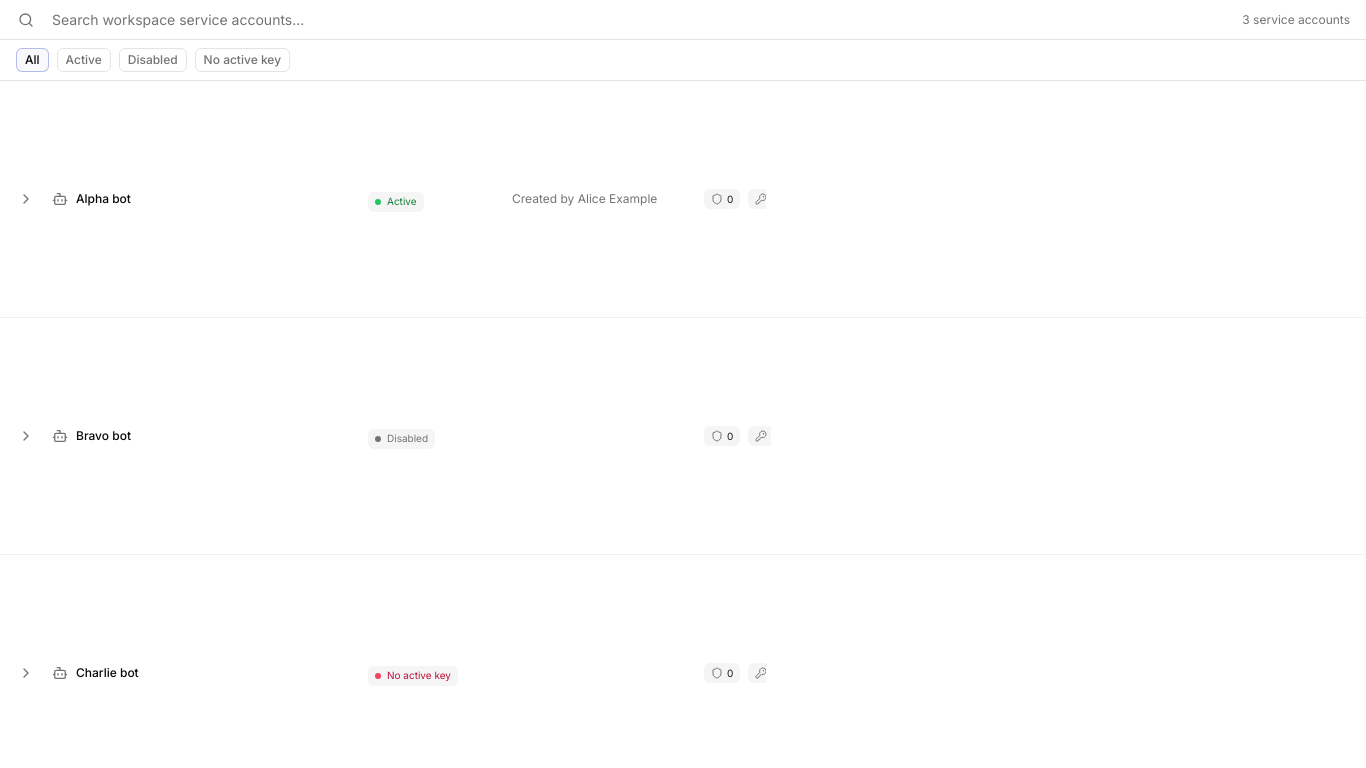
Scenario: ServiceAccountsManager › shows service accounts as top-level rows, keeps status filters, and expands into API keys
Expected: the text "Alpha bot" is shown, [76,191,131,206]
Expected: the text "Created by Alice Example" is shown, [512,191,657,206]
Click the button "Disabled" at (153, 60), box [119,48,187,72]
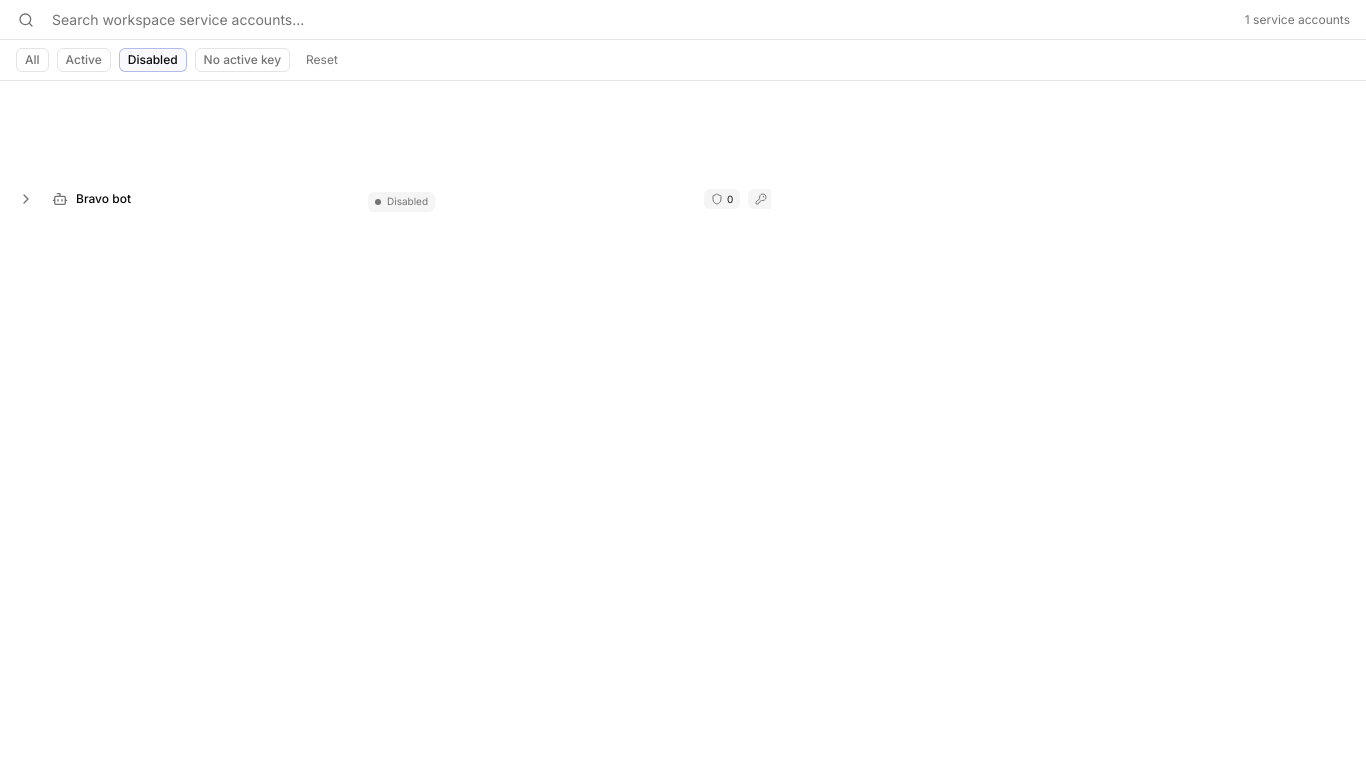
Expected: the text "Bravo bot" is shown, [76,191,131,206]
Expected: the button "Alpha bot" is gone
Expected: the button "Charlie bot" is gone
Click the button "All" at (32, 60), box [16,48,49,72]
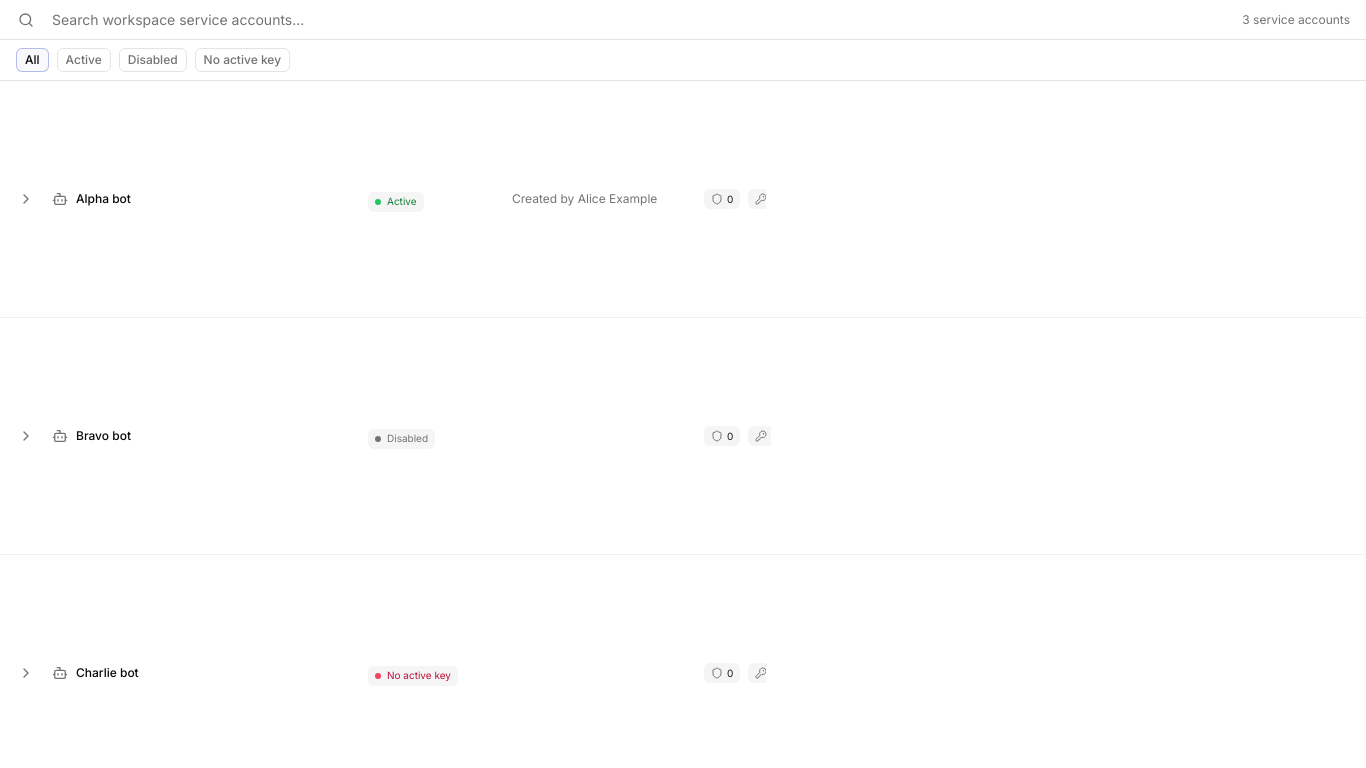
Click the button "Alpha bot" at (456, 199), box [18,91,894,307]
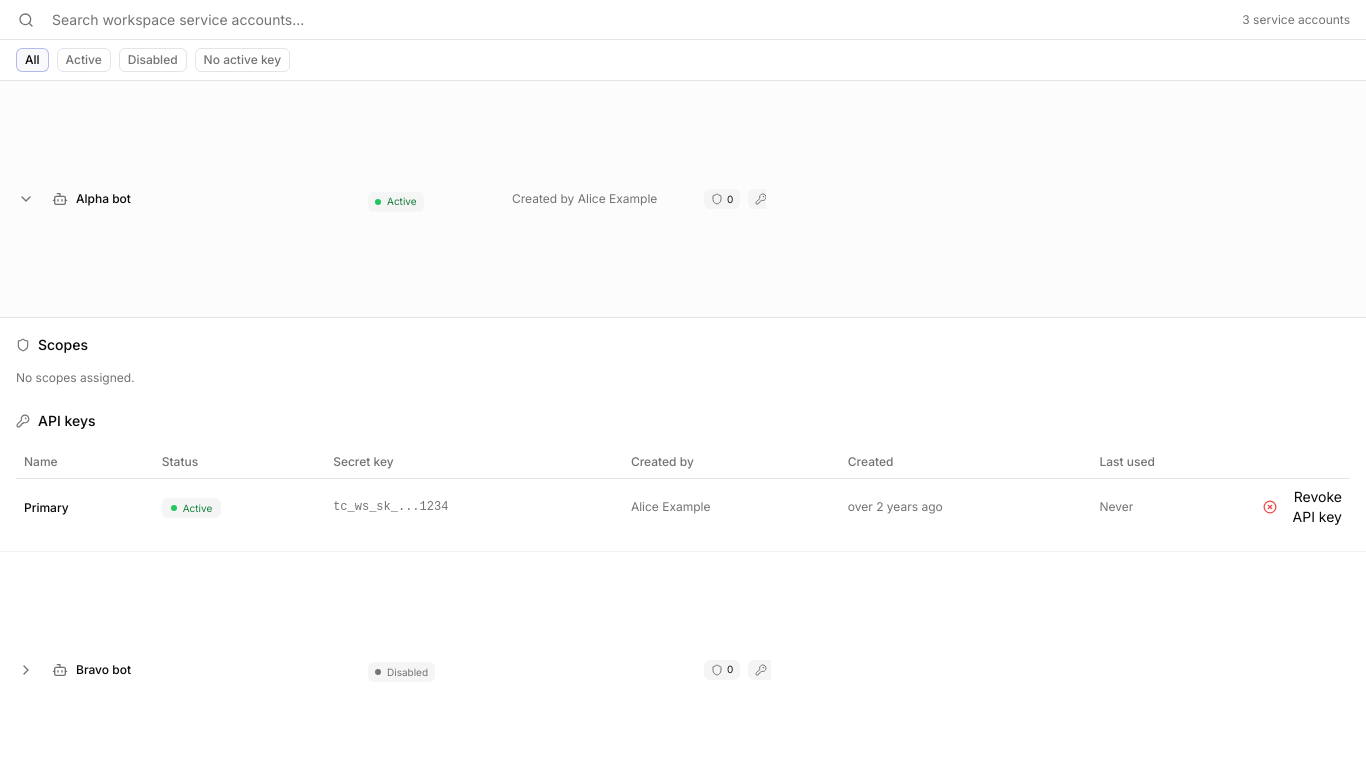
Expected: the text "API keys" is shown, [38,411,96,431]
Expected: the text "Scopes" is shown, [38,335,88,355]
Expected: the button named "Revoke API key" is shown, [1262,492,1278,520]
